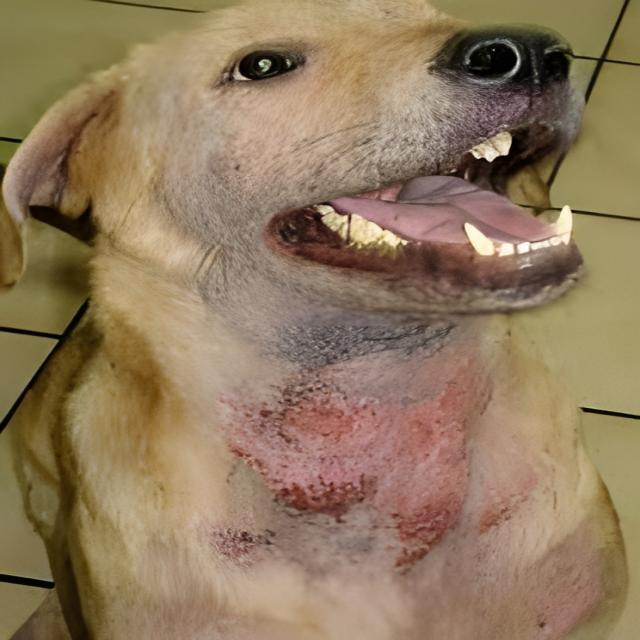allergic dermatitis: (215, 346, 492, 592)
